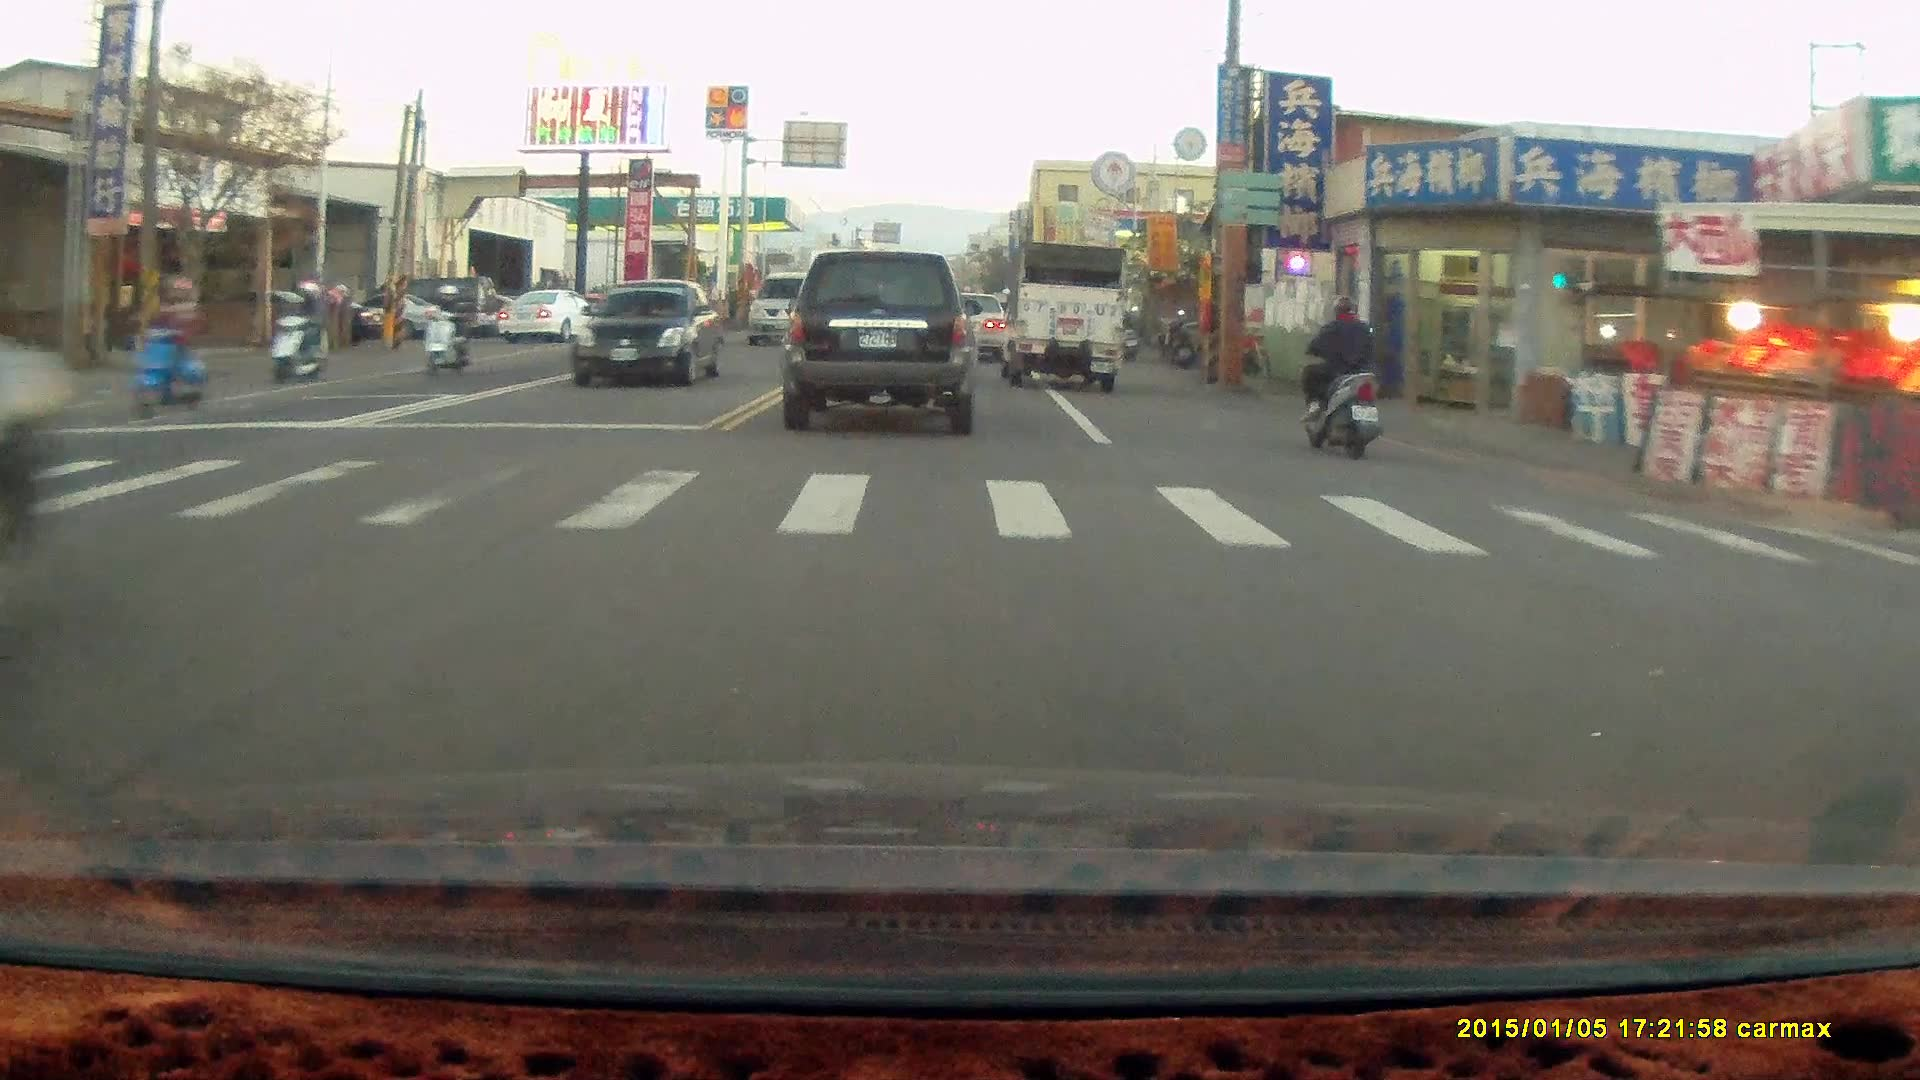rider: (1290, 286, 1382, 451), (119, 273, 202, 417), (265, 278, 332, 384), (419, 283, 474, 376)
vehicle: (777, 252, 984, 435), (995, 241, 1125, 393), (576, 281, 726, 388), (746, 271, 833, 347), (507, 292, 612, 349), (935, 292, 1009, 366)
